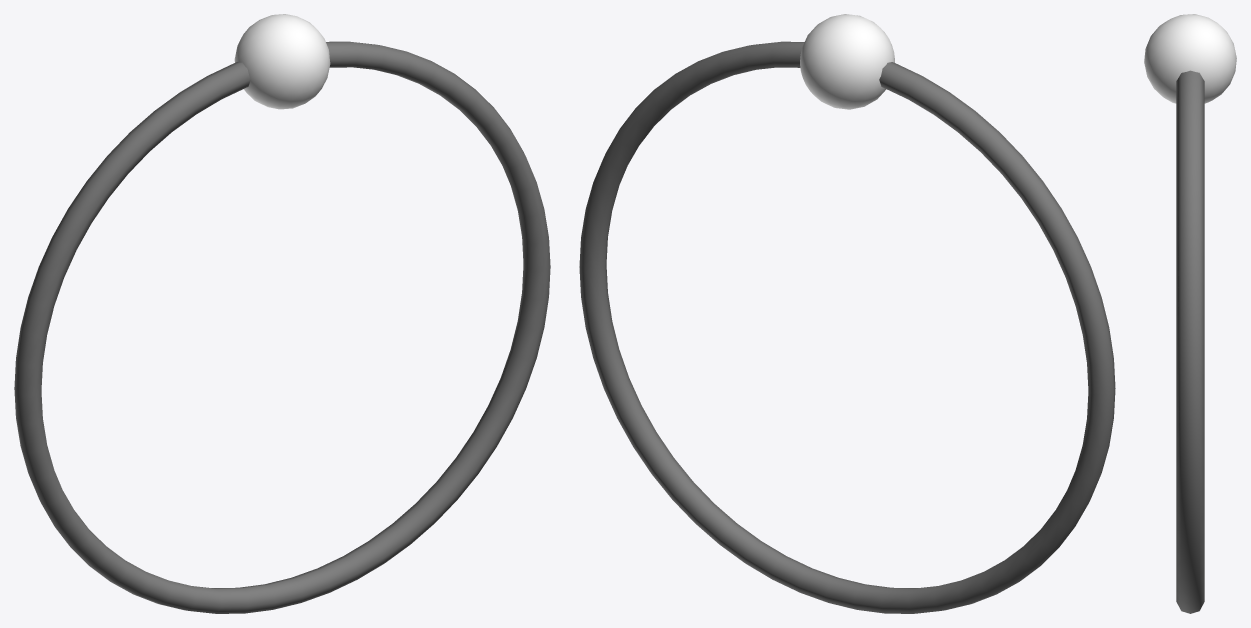
File: bridge_ring.glb
3 views of the same model, side by side, from view 1: azimuth 30°, elevation 25°; view 2: azimuth 150°, elevation 25°; view 3: azimuth 270°, elevation 25° (orthographic). The views are drawn at different scales.
Parts seen in each view (by area): view 1: ring; view 2: ring; view 3: ring.
Boxes of the visible parts, box(x1,y1,x2,y2) form: ring: box(14, 14, 550, 613); ring: box(579, 14, 1115, 613); ring: box(1144, 14, 1236, 613).
Bounding box in the file's own units: 2.8 × 2.96 × 0.4375.
1 material, 1 textured.
